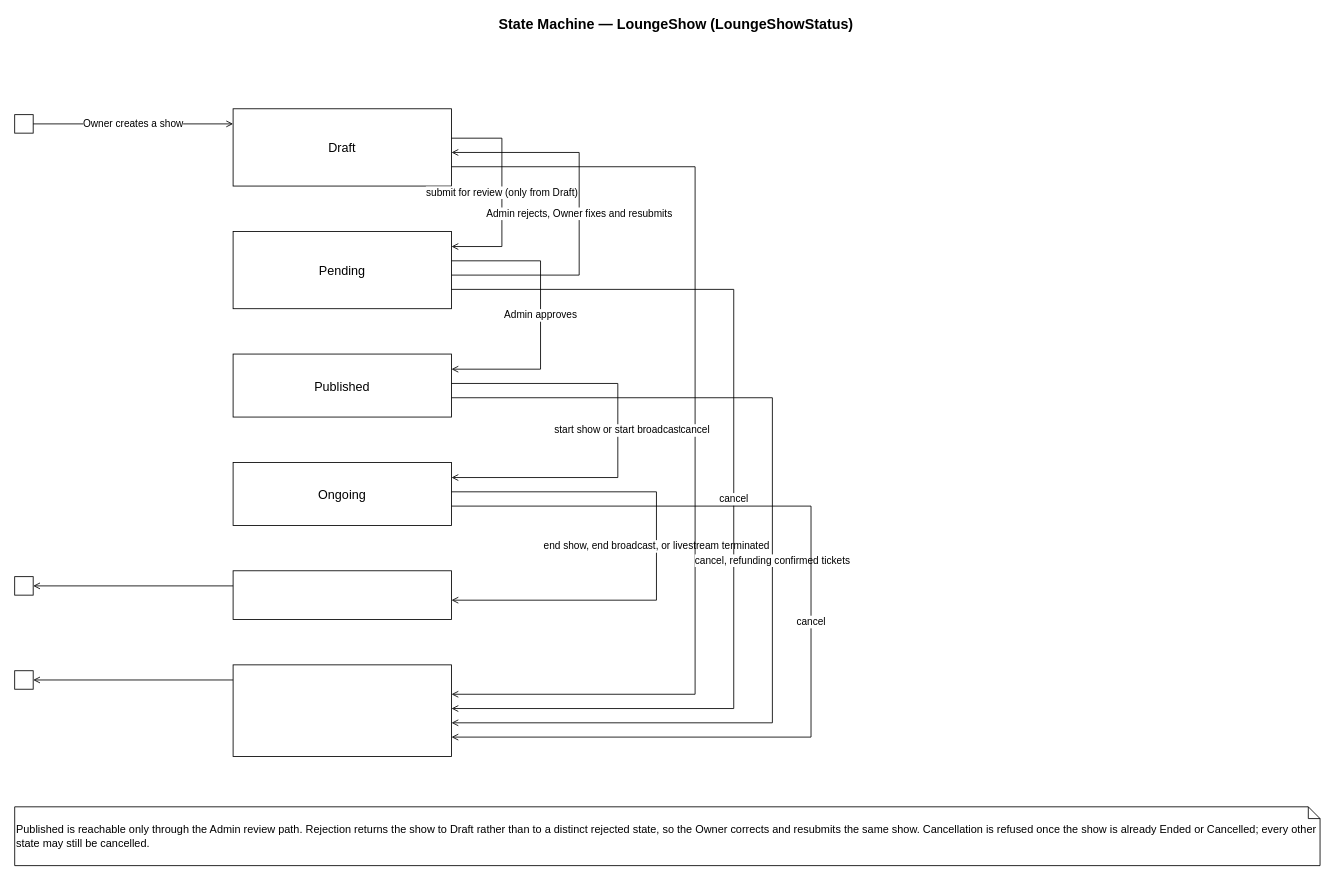
Some shapes in this 1335 by 880 pixel diagram are drawn without their labels. The box of each missing label's shape, as (x1, y1, x2, y2) in pixels:
Cancelled: (232, 664, 452, 756)
Ended: (232, 570, 452, 620)
